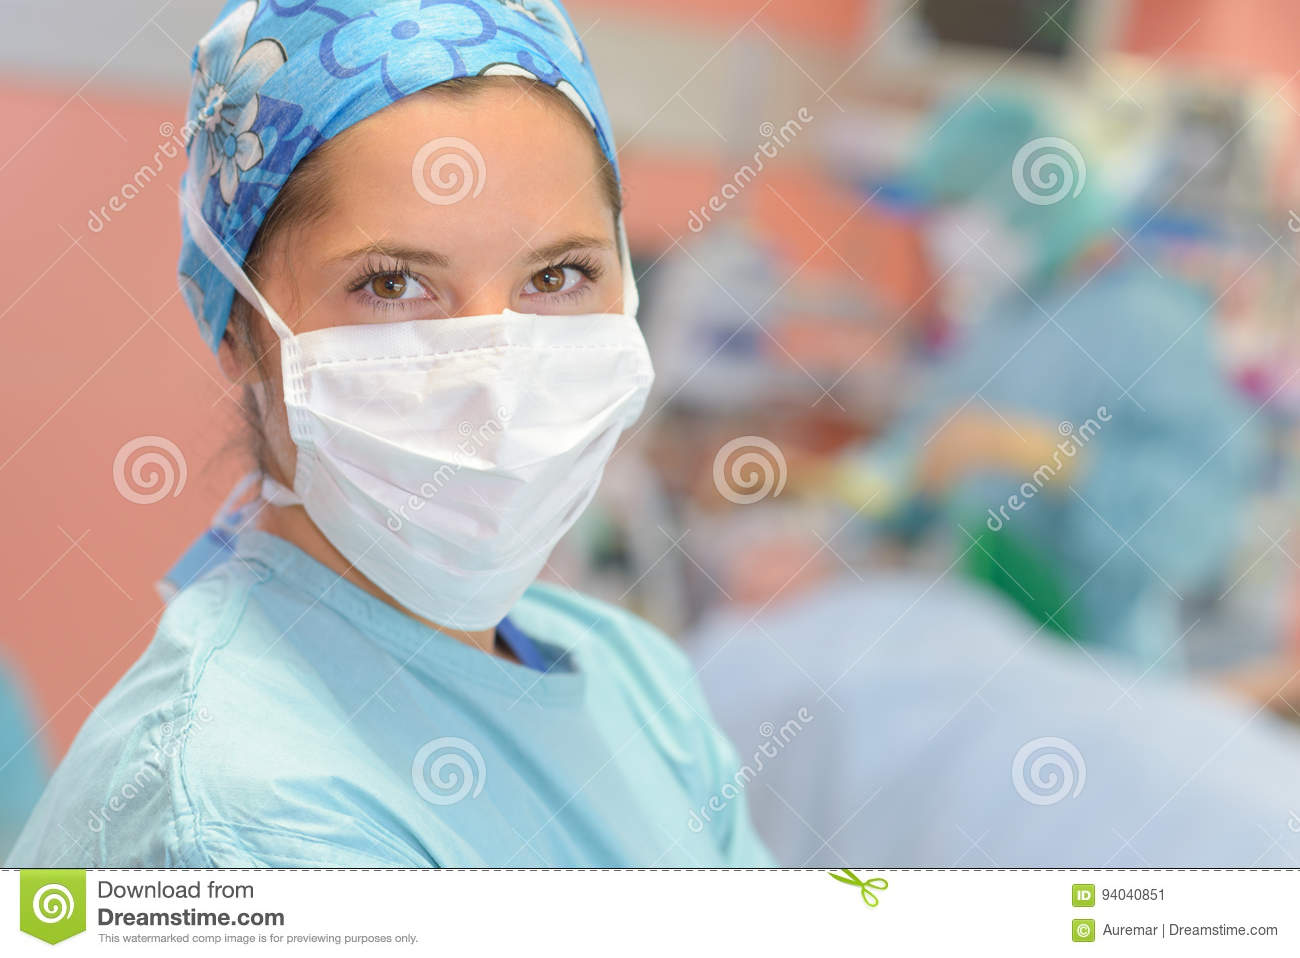mask: (272, 327, 648, 599)
